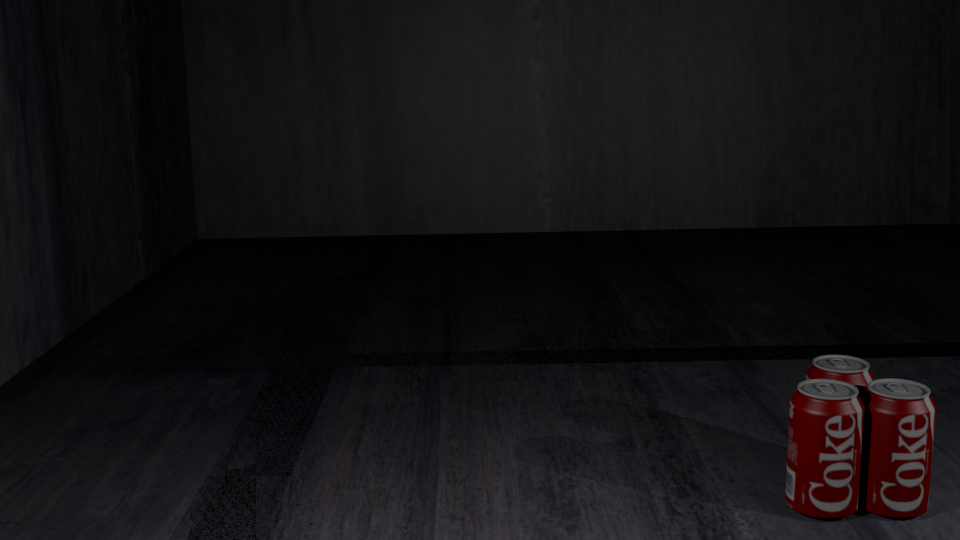cola_can: (859, 379, 935, 513), (788, 379, 863, 514), (808, 355, 874, 481)
